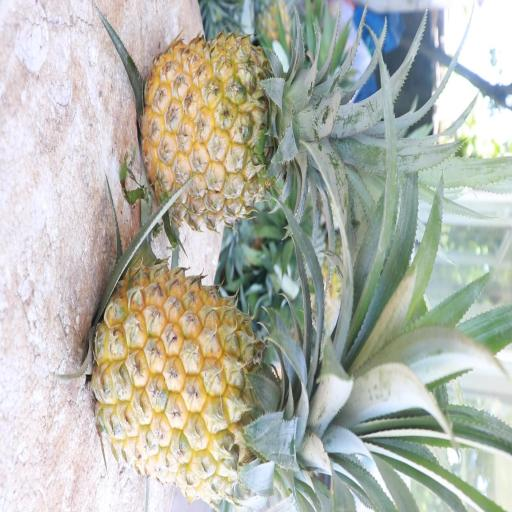Pineapple - v8 v1: (86, 255, 401, 506), (136, 30, 372, 238)
